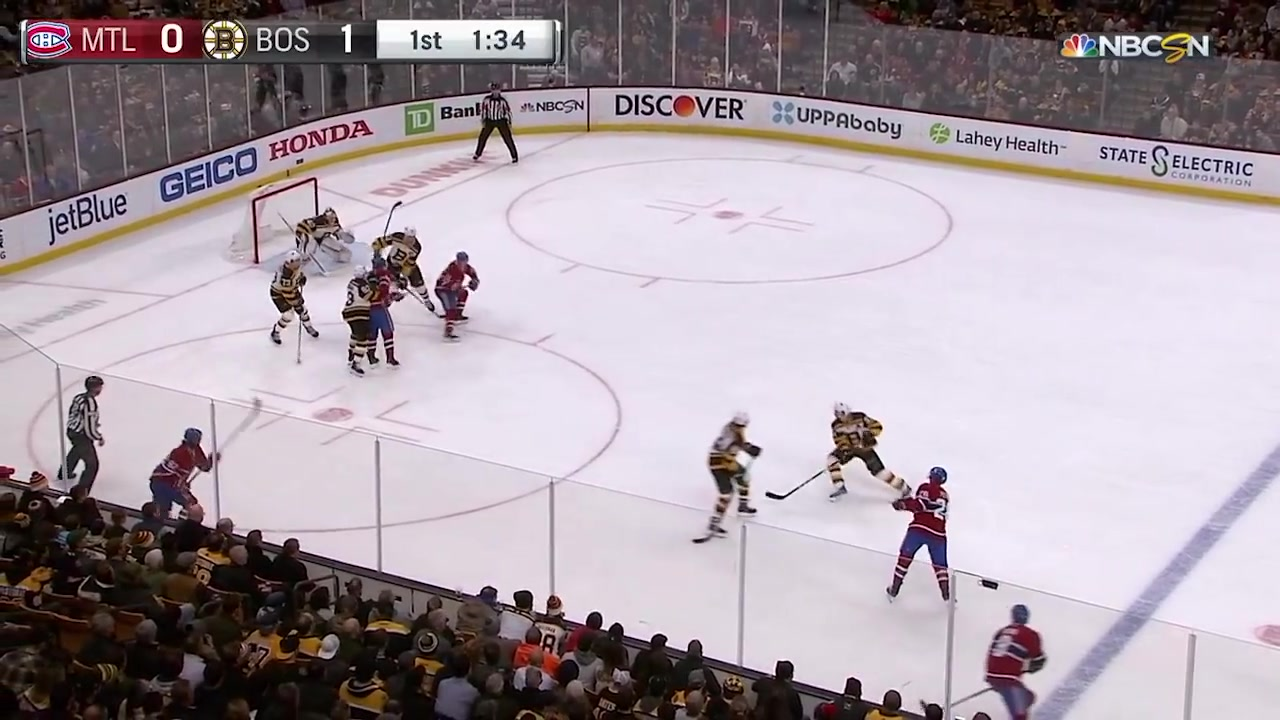geico: (153, 147, 259, 204)
